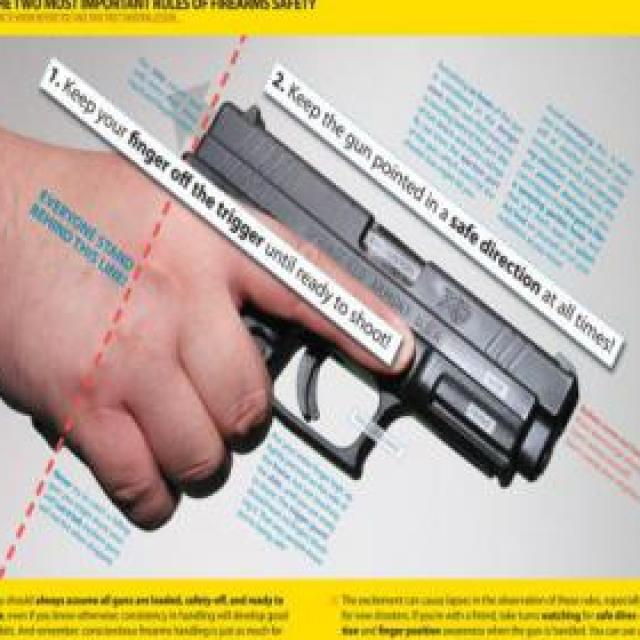pistol: (178, 91, 582, 519)
